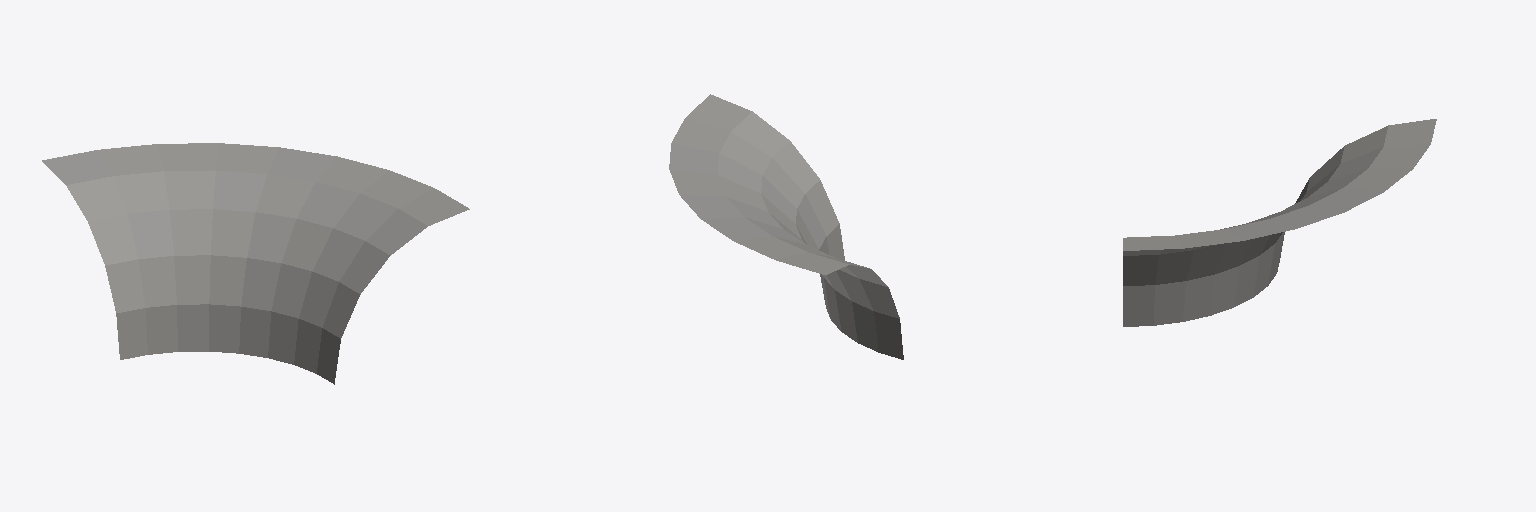
Rendered from Cave_Terrain_Corner_Outer_2x2_Top.obj.
3 views of the same model, side by side, from view 1: azimuth 30°, elevation 25°; view 2: azimuth 150°, elevation 25°; view 3: azimuth 270°, elevation 25° (orthographic).
Parts seen in each view (by area): view 1: object1; view 2: object1; view 3: object1.
Boxes of the visible parts, <box> form: object1: <box>42,143,469,384</box>; object1: <box>669,94,903,359</box>; object1: <box>1123,119,1436,326</box>.
Size of the model in its own units: 2 by 1 by 2.